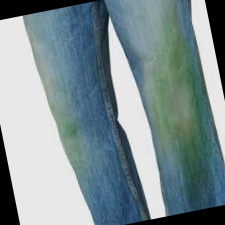earth: (145, 36, 212, 165), (60, 109, 87, 153)
